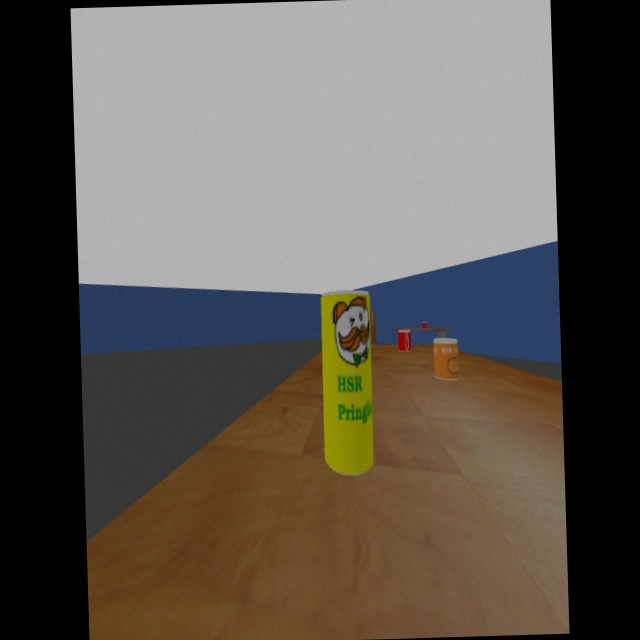chipsdose_gelb: (321, 290, 375, 476)
